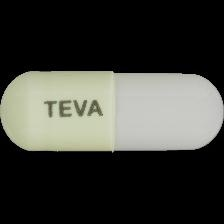0093-5554: (0, 0, 224, 224)
